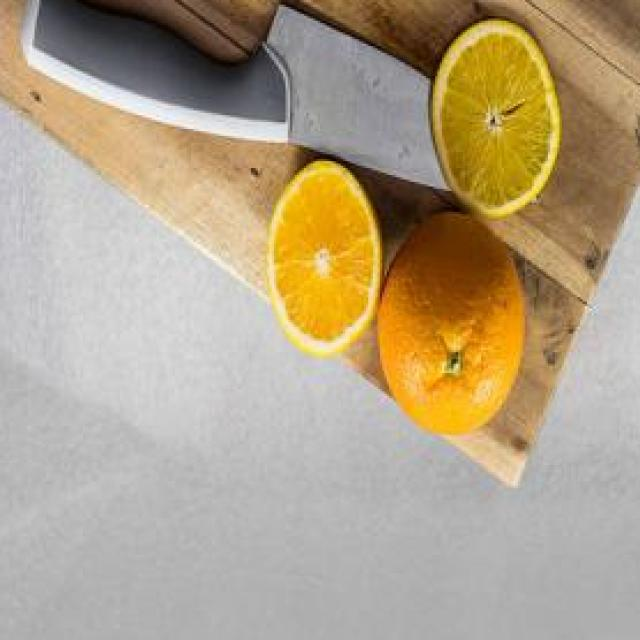knife: (21, 0, 538, 205)
